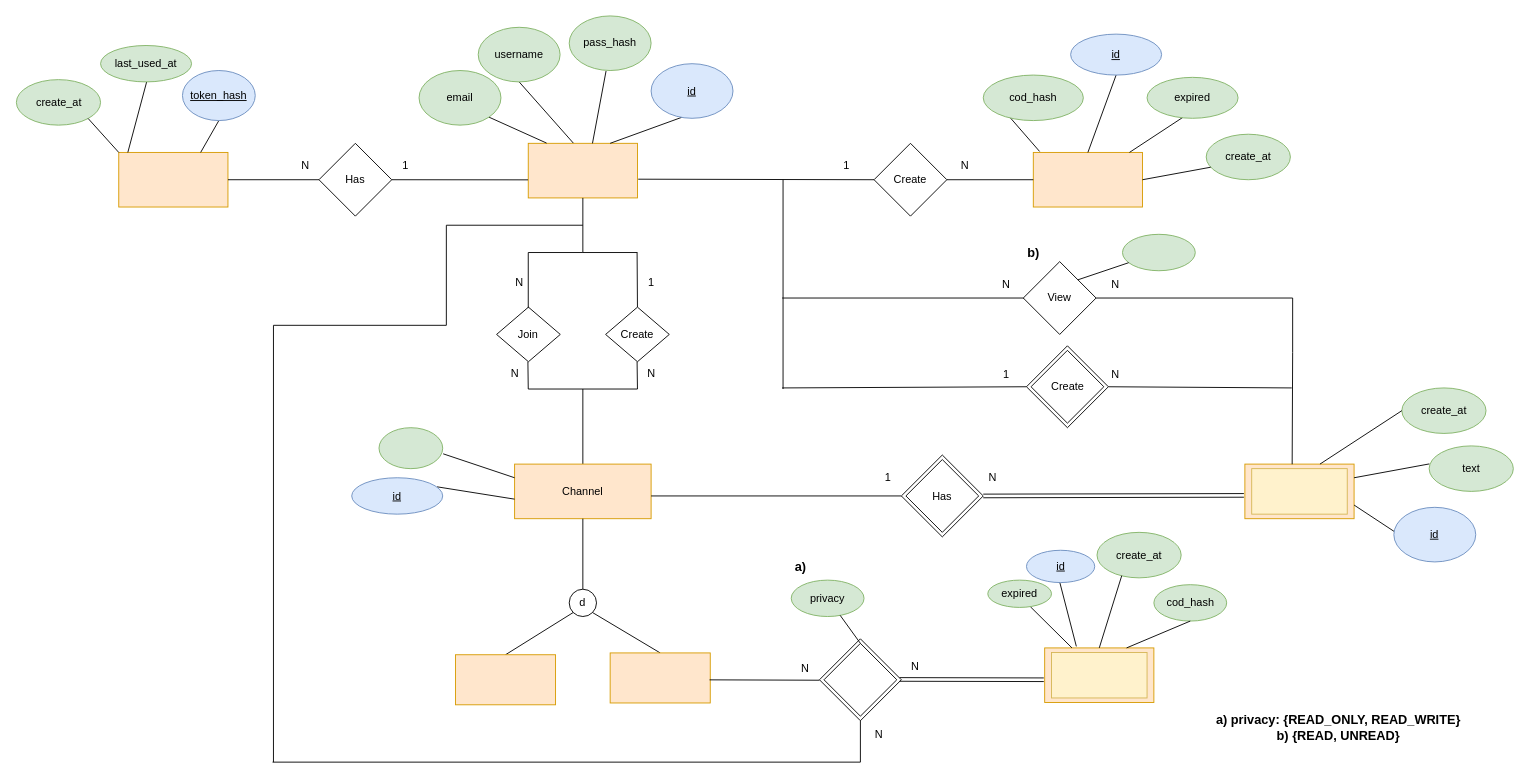
Some shapes in this 1529 by 779 pixel diagram are drawn without their labels. Each missing label, with the centre of its shape:
"Authentication Token" goes at point 173,179.
"Invitation_Register" goes at point 1087,179.
"Invite_Channel" goes at point 1099,675.
"Message" goes at point 1299,491.
"name" goes at point 410,448.
"Private" goes at point 659,677.
"Public" goes at point 505,679.
"read" goes at point 1158,252.
"Send" goes at point 860,679.
"User" goes at point 582,170.
